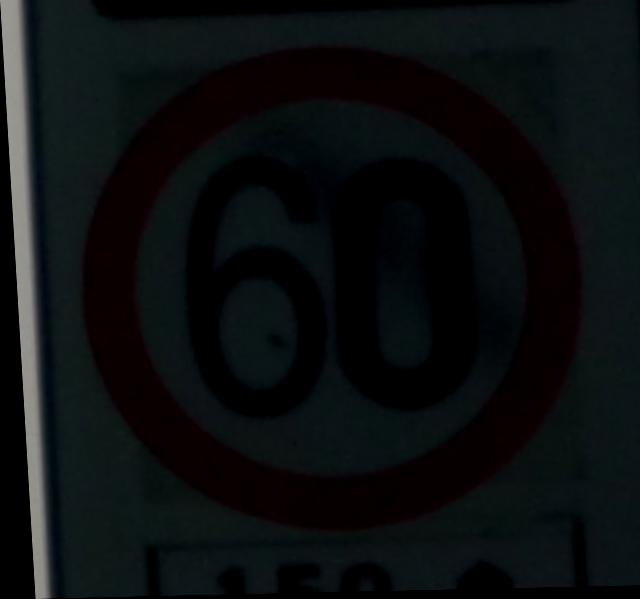limit60: (61, 33, 598, 544)
